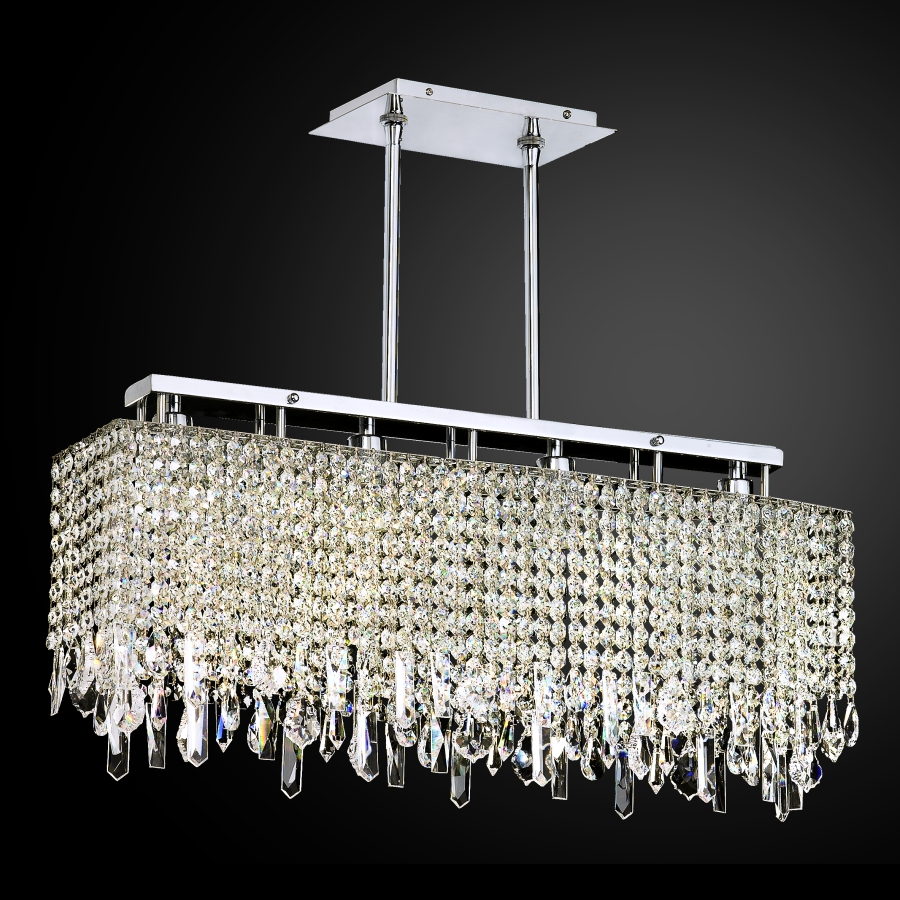chandelier: (38, 7, 870, 832)
